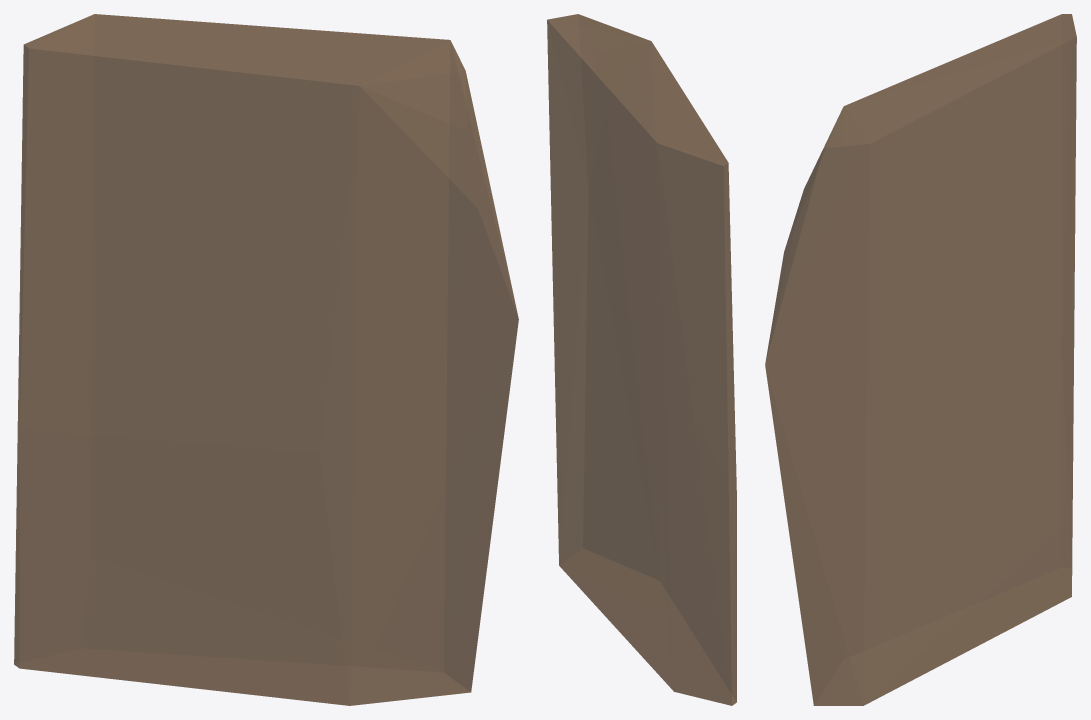
3 renders of one model, left to right at view 1: azimuth 30°, elevation 25°; view 2: azimuth 150°, elevation 25°; view 3: azimuth 270°, elevation 25°, orthographic. The views are drawn at different scales.
Parts seen in each view (by area): view 1: Shape_IndexedFaceSet.021_Shape_IndexedFaceSet.3515; view 2: Shape_IndexedFaceSet.021_Shape_IndexedFaceSet.3515; view 3: Shape_IndexedFaceSet.021_Shape_IndexedFaceSet.3515.
Part boxes in pixels (x1,y1,x2,y2): Shape_IndexedFaceSet.021_Shape_IndexedFaceSet.3515: (14,14,518,705); Shape_IndexedFaceSet.021_Shape_IndexedFaceSet.3515: (547,14,736,705); Shape_IndexedFaceSet.021_Shape_IndexedFaceSet.3515: (765,14,1076,705).
Size of the model in its own units: 0.135 by 0.2419 by 0.1205.
